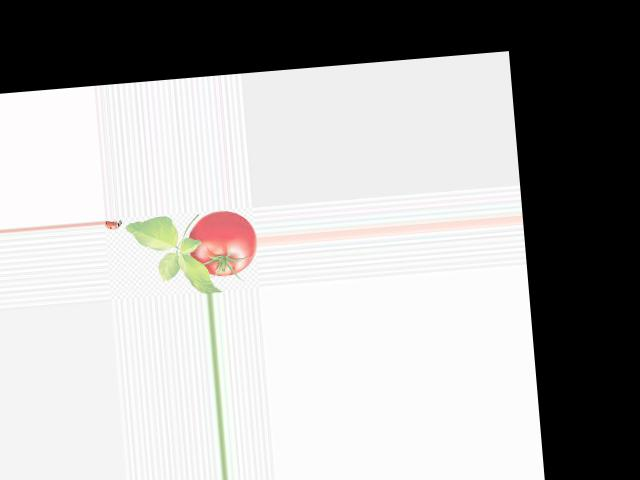tomato: (186, 208, 259, 278)
